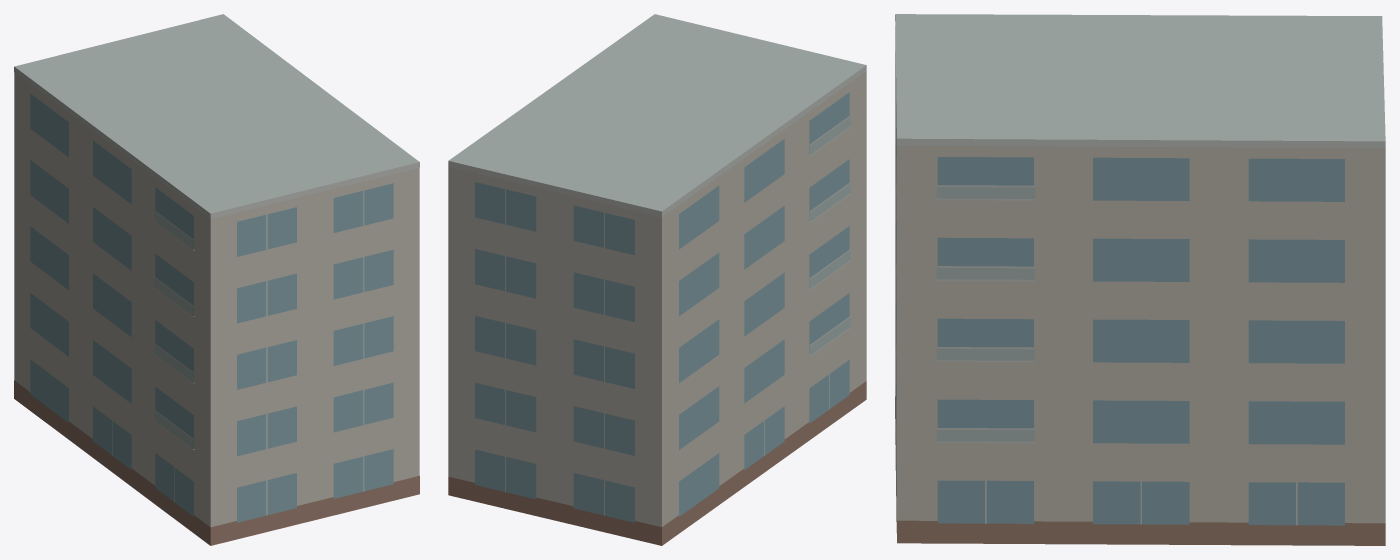
File: survey-upis-32633413.glb
3 renders of one model, left to right at view 1: azimuth 30°, elevation 25°; view 2: azimuth 150°, elevation 25°; view 3: azimuth 270°, elevation 25°, orthographic. The views are drawn at different scales.
Parts seen in each view (by area): view 1: survey-upis-32633413.tmp; view 2: survey-upis-32633413.tmp; view 3: survey-upis-32633413.tmp.
Part boxes in pixels (<box>): survey-upis-32633413.tmp: <box>14,14,419,545</box>; survey-upis-32633413.tmp: <box>448,14,866,545</box>; survey-upis-32633413.tmp: <box>895,14,1385,545</box>.
Size of the model in its own units: 9.62 by 14.2 by 15.61.
